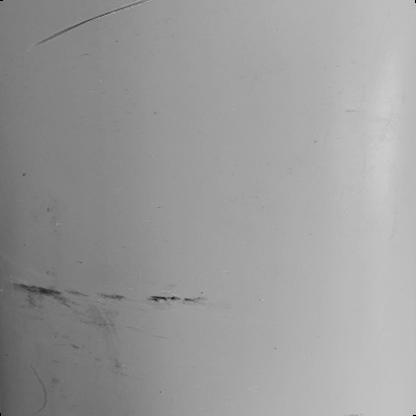sunshang: (24, 1, 157, 50), (27, 363, 45, 416)
